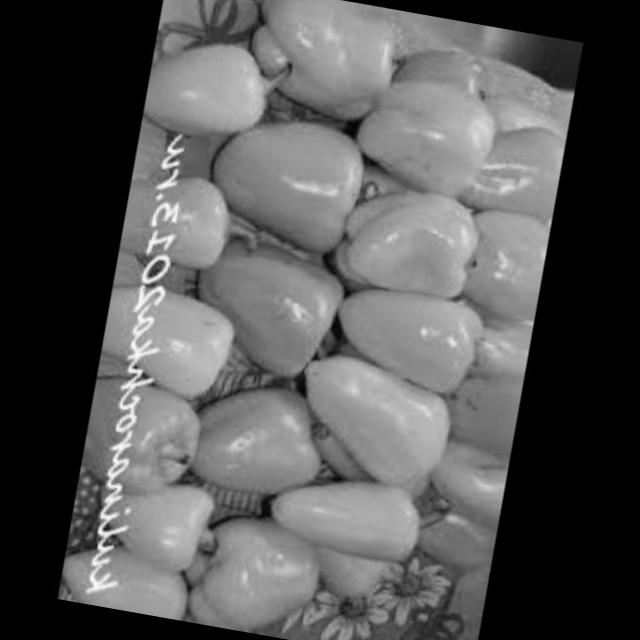bell pepper: (389, 85, 573, 620), (195, 100, 388, 270), (188, 225, 364, 392), (259, 458, 445, 611), (286, 342, 459, 494), (182, 491, 344, 640), (183, 370, 339, 512), (254, 0, 414, 136), (324, 268, 488, 399), (95, 278, 248, 418), (342, 67, 500, 201), (328, 180, 488, 311), (78, 369, 218, 510), (142, 25, 284, 144), (118, 158, 255, 281), (92, 465, 240, 576), (62, 527, 192, 620)
